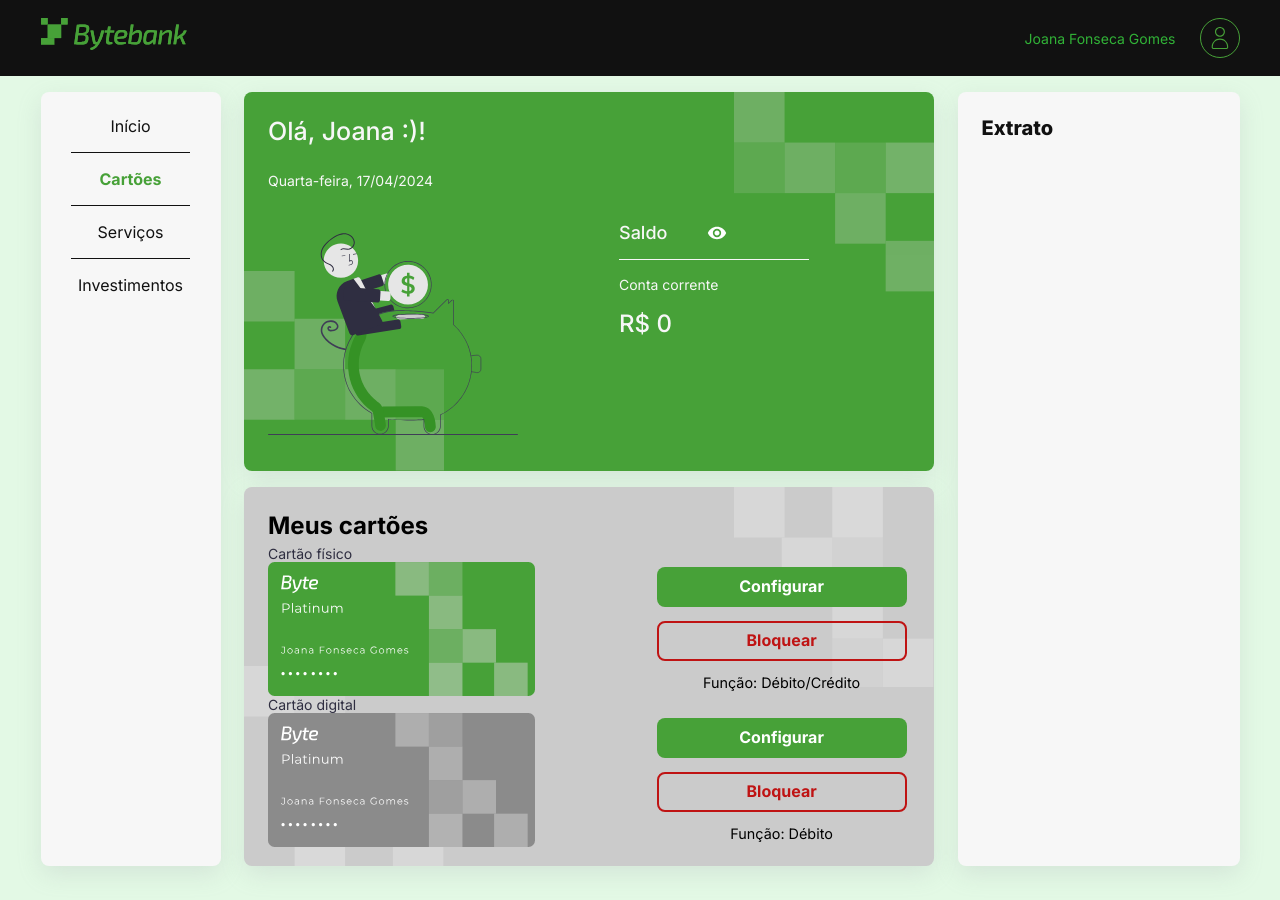
it: Componente <App /> › Deve navegar até a página correspondente ao link: › Investimentos
Click the link "Investimentos" at (130, 285), box [78,275,183,295]
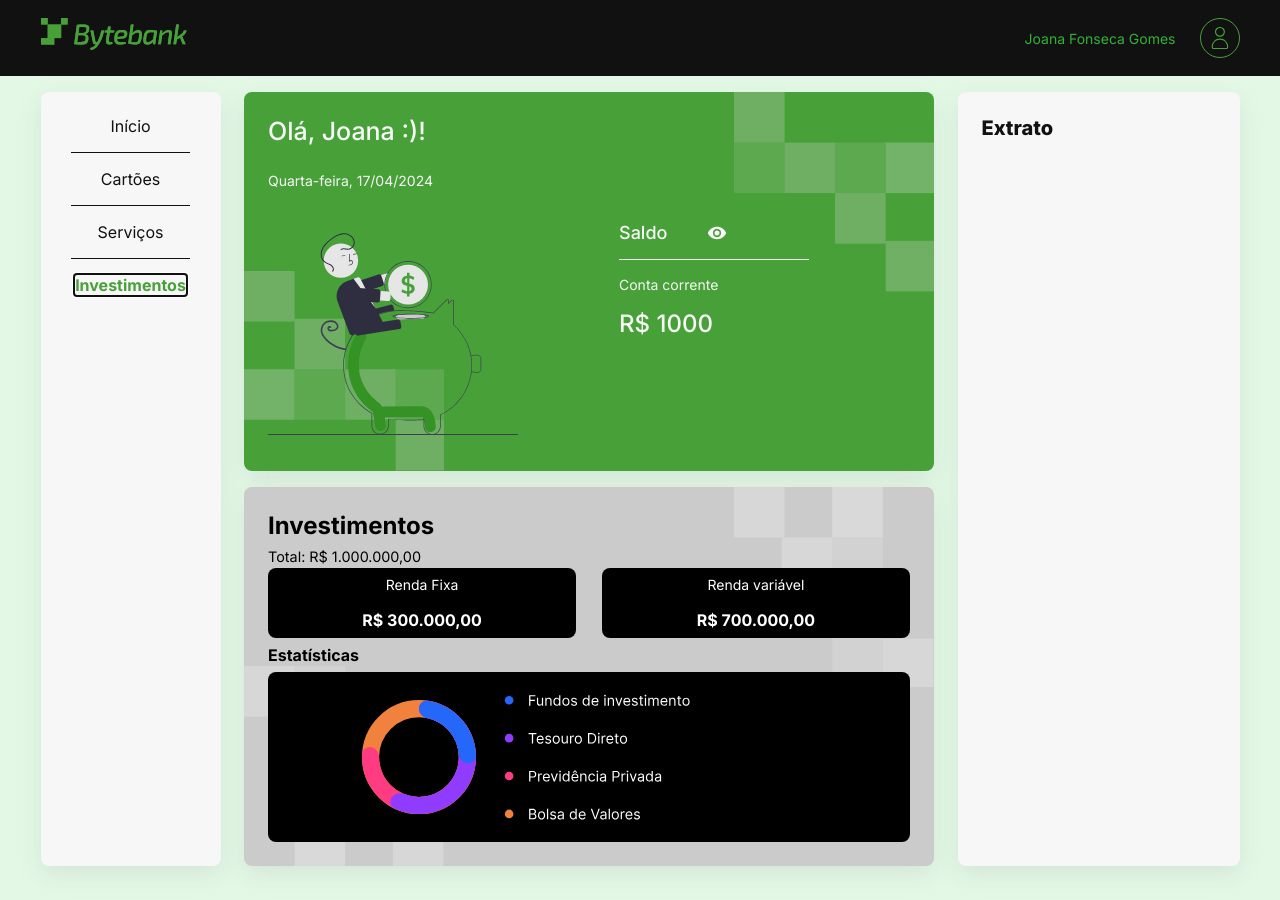
expect the element with test id "container-investimentos" is shown: met, box [244,487,934,866]
